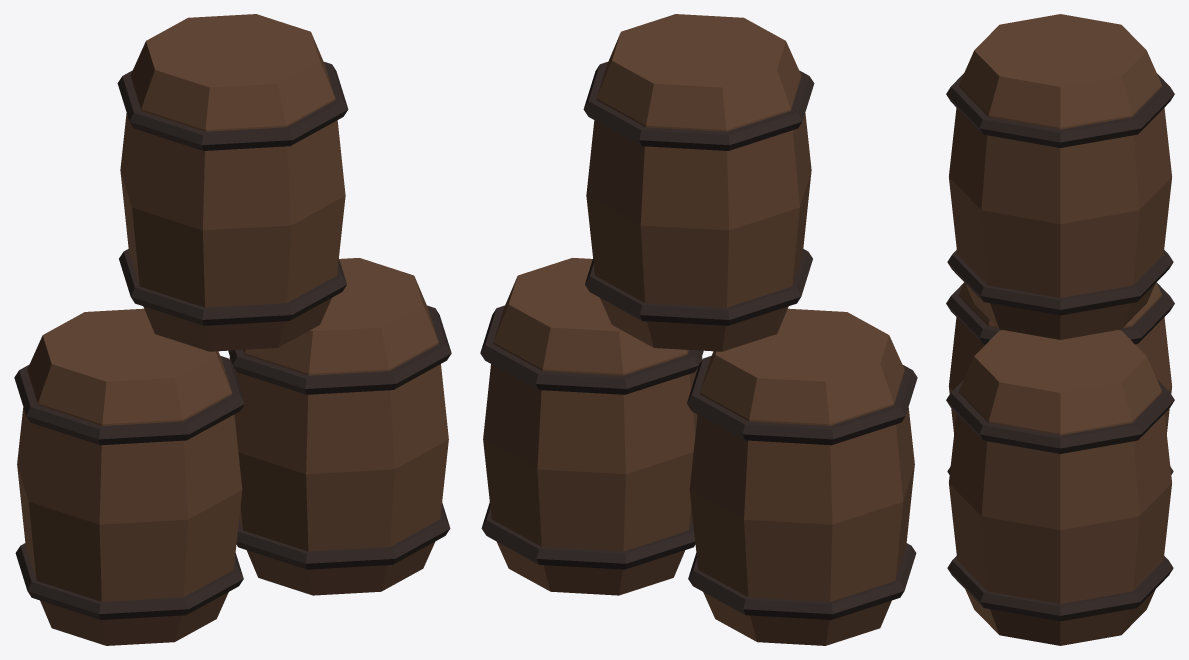
File: PirateCove_BarrelStack_Simple.glb
3 views of the same model, side by side, from view 1: azimuth 30°, elevation 25°; view 2: azimuth 150°, elevation 25°; view 3: azimuth 270°, elevation 25° (orthographic). The views are drawn at different scales.
Visible parts, largest first — view 1: PirateCove_BarrelStack_Simple; view 2: PirateCove_BarrelStack_Simple; view 3: PirateCove_BarrelStack_Simple.
Part boxes in pixels (x1,y1,x2,y2): PirateCove_BarrelStack_Simple: (14,14,451,645); PirateCove_BarrelStack_Simple: (480,14,917,645); PirateCove_BarrelStack_Simple: (946,14,1174,645).
Bounding box in the file's own units: 1.8 × 2.22 × 0.902.
